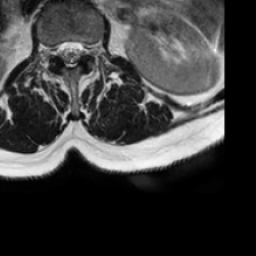CCS_normal: (65, 29, 75, 75)
LFS_normal: (84, 29, 94, 65)
LLS_normal: (75, 29, 84, 68)
RFS_normal: (46, 35, 55, 66)
RLS_normal: (55, 34, 65, 66)
